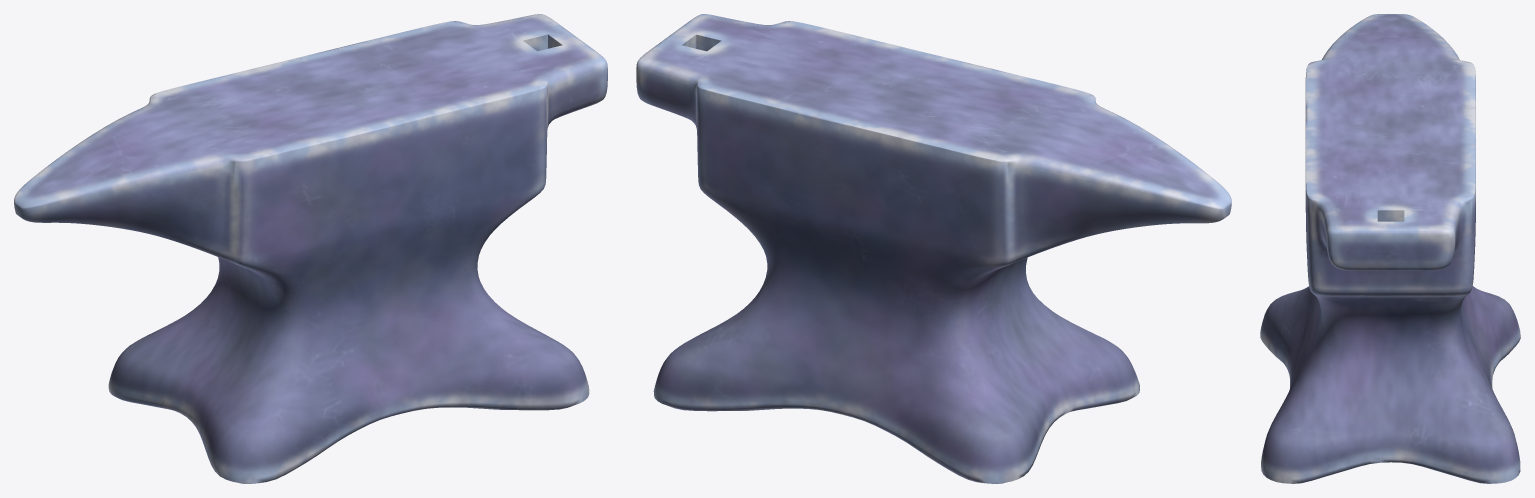
Rendered from AnvilV2.glb.
3 views of the same model, side by side, from view 1: azimuth 30°, elevation 25°; view 2: azimuth 150°, elevation 25°; view 3: azimuth 270°, elevation 25° (orthographic). The views are drawn at different scales.
Parts seen in each view (by area): view 1: AnvilV2; view 2: AnvilV2; view 3: AnvilV2.
Part boxes in pixels (x1,y1,x2,y2): AnvilV2: (14, 14, 607, 483); AnvilV2: (636, 14, 1231, 483); AnvilV2: (1260, 14, 1520, 483).
Size of the model in its own units: 4.4 by 2.3 by 1.96.
Materials: 1 (1 with a texture image).
